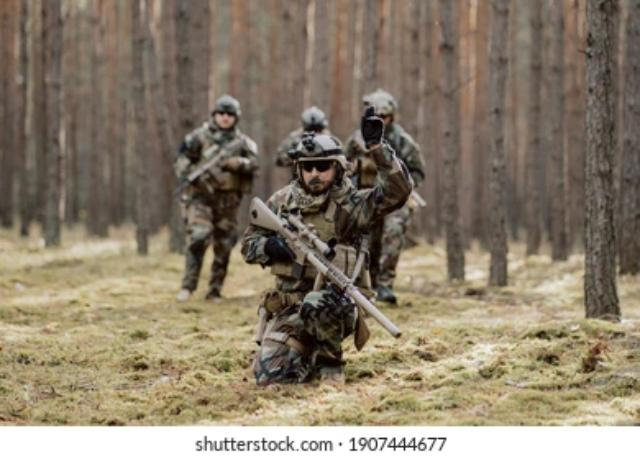other: (245, 128, 369, 379), (174, 97, 260, 298), (357, 95, 417, 300), (275, 103, 337, 160)
